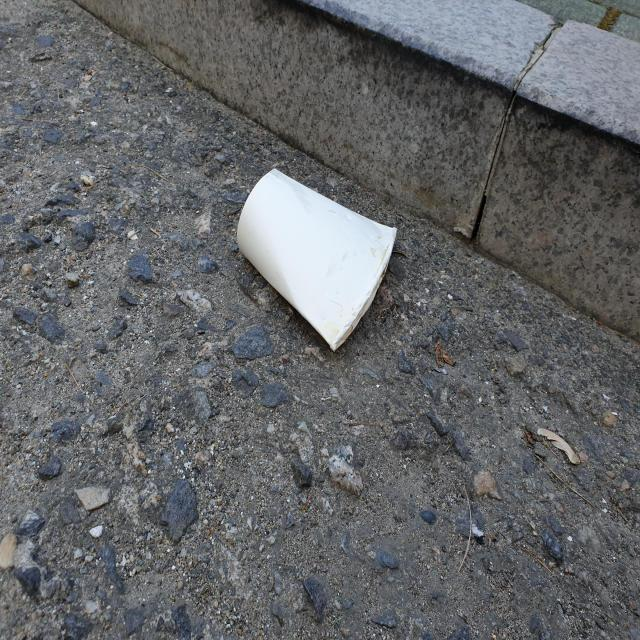paperpack: (237, 168, 396, 350)
